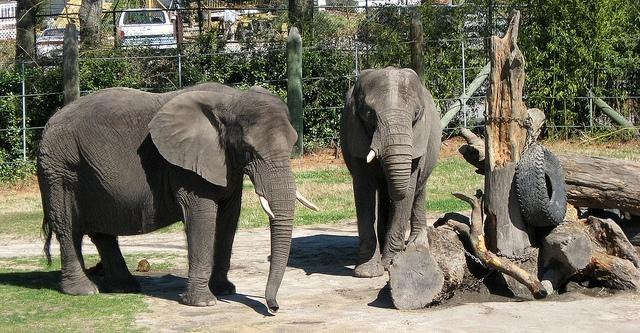car: (38, 26, 80, 57), (238, 16, 244, 21)
truck: (116, 8, 180, 48)
